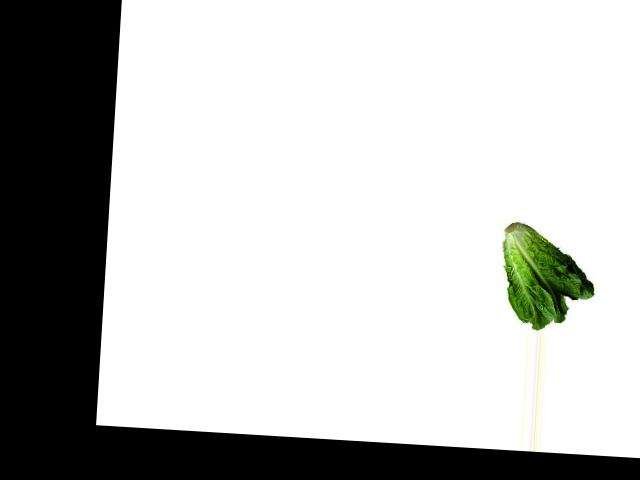lettuce: (494, 222, 601, 335)
